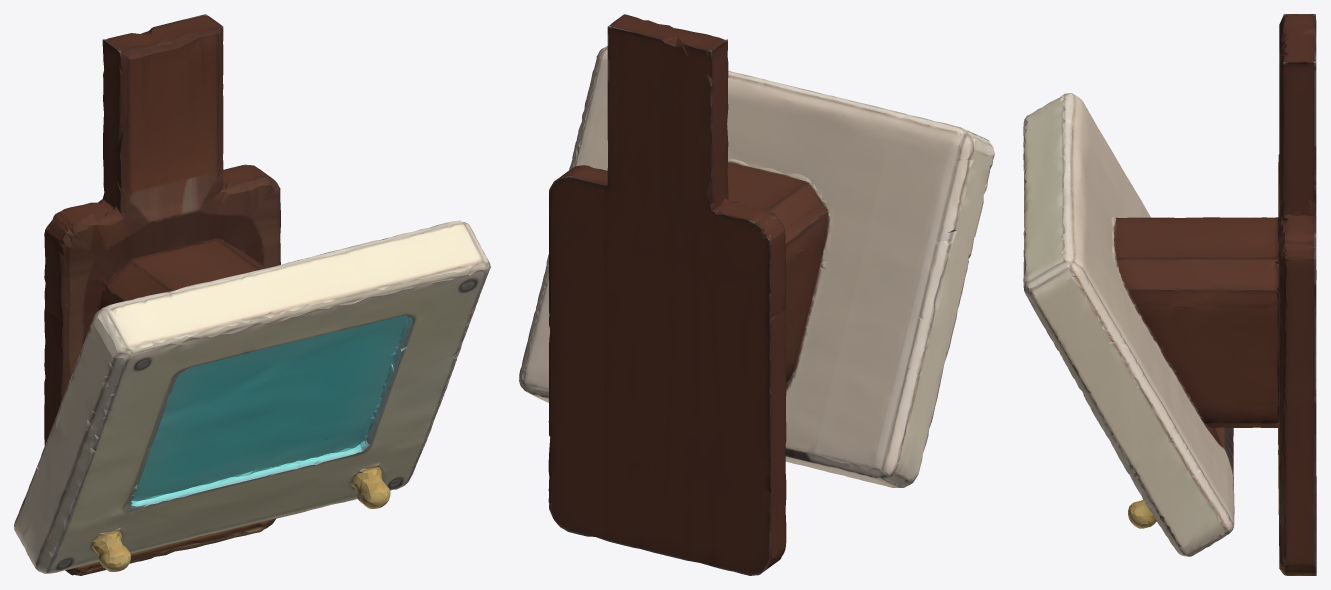
File: Station_TrainingConsole.glb
3 renders of one model, left to right at view 1: azimuth 30°, elevation 25°; view 2: azimuth 150°, elevation 25°; view 3: azimuth 270°, elevation 25°, orthographic. The views are drawn at different scales.
Parts seen in each view (by area): view 1: Station_TrainingConsole; view 2: Station_TrainingConsole; view 3: Station_TrainingConsole.
Part boxes in pixels (left/top/right/bottom): Station_TrainingConsole: left=14, top=14, right=490, bottom=575; Station_TrainingConsole: left=519, top=14, right=994, bottom=575; Station_TrainingConsole: left=1023, top=14, right=1316, bottom=575.
Bounding box in the file's own units: 0.8843 × 1.15 × 0.6187.
1 material, 1 textured.
